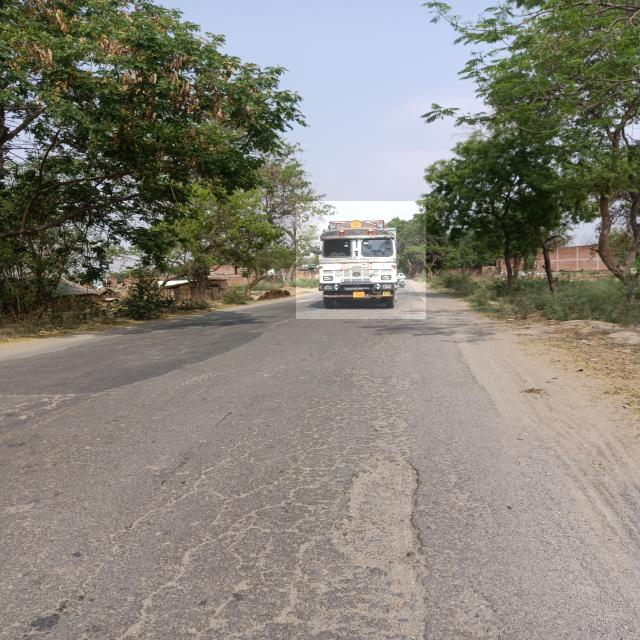Truck: (296, 202, 426, 320)
